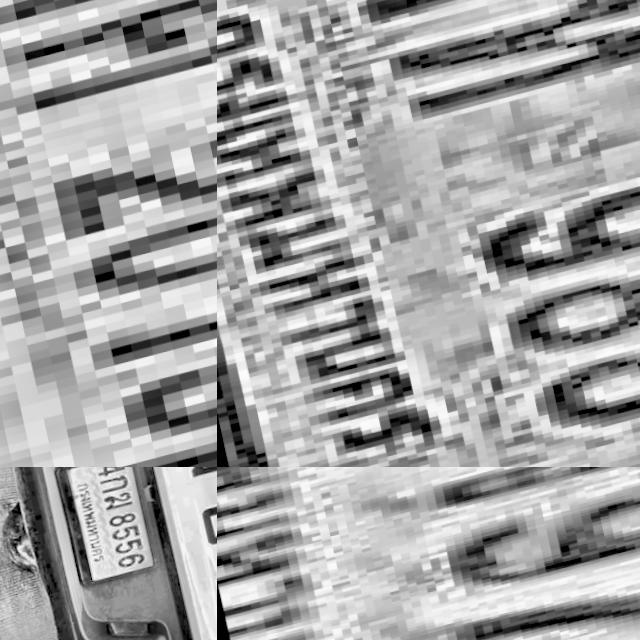license-plate: (217, 0, 640, 467), (0, 0, 217, 467), (217, 467, 640, 640), (52, 467, 159, 589)
